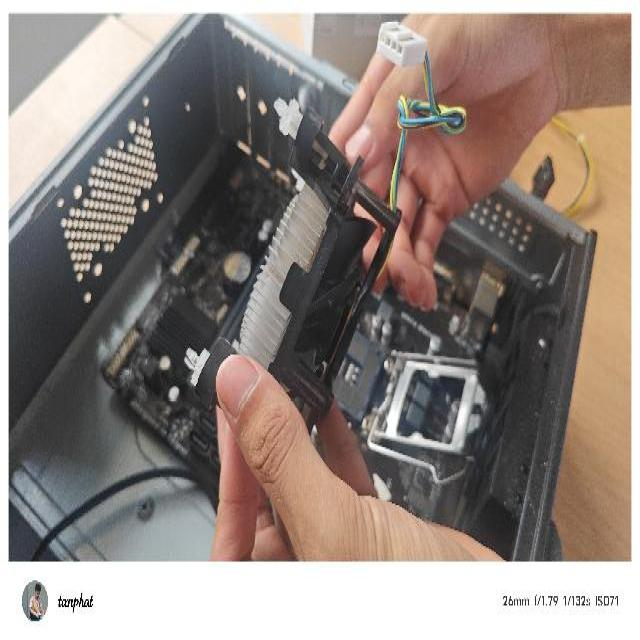CPU_Fan: (184, 85, 403, 444)
